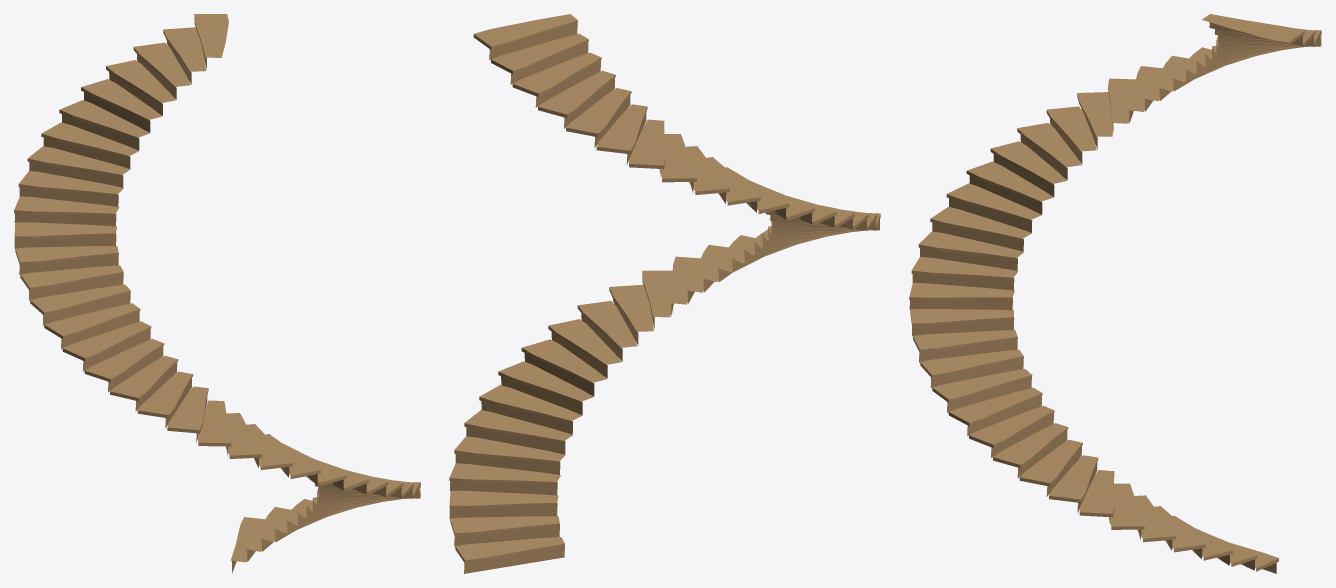
Rendered from StaircaseLP.fbx.
3 views of the same model, side by side, from view 1: azimuth 30°, elevation 25°; view 2: azimuth 150°, elevation 25°; view 3: azimuth 270°, elevation 25° (orthographic). The views are drawn at different scales.
Parts seen in each view (by area): view 1: SquadStairsLP.001; view 2: SquadStairsLP.001; view 3: SquadStairsLP.001.
Part boxes in pixels (x1=…): SquadStairsLP.001: x1=14, y1=14, x2=420, y2=573; SquadStairsLP.001: x1=449, y1=14, x2=880, y2=573; SquadStairsLP.001: x1=909, y1=14, x2=1321, y2=573.
Size of the model in its own units: 198 by 278 by 198.
